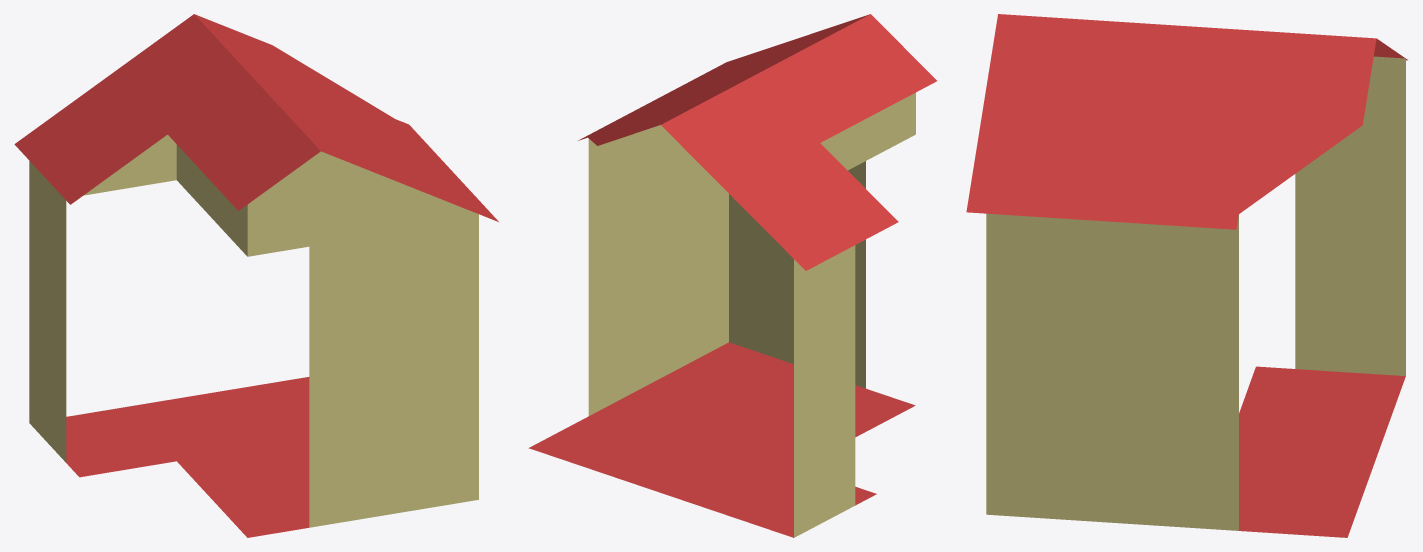
3 views of the same model, side by side, from view 1: azimuth 30°, elevation 25°; view 2: azimuth 150°, elevation 25°; view 3: azimuth 270°, elevation 25° (orthographic). The views are drawn at different scales.
Size of the model in its own units: 12.17 by 12.62 by 13.19.
